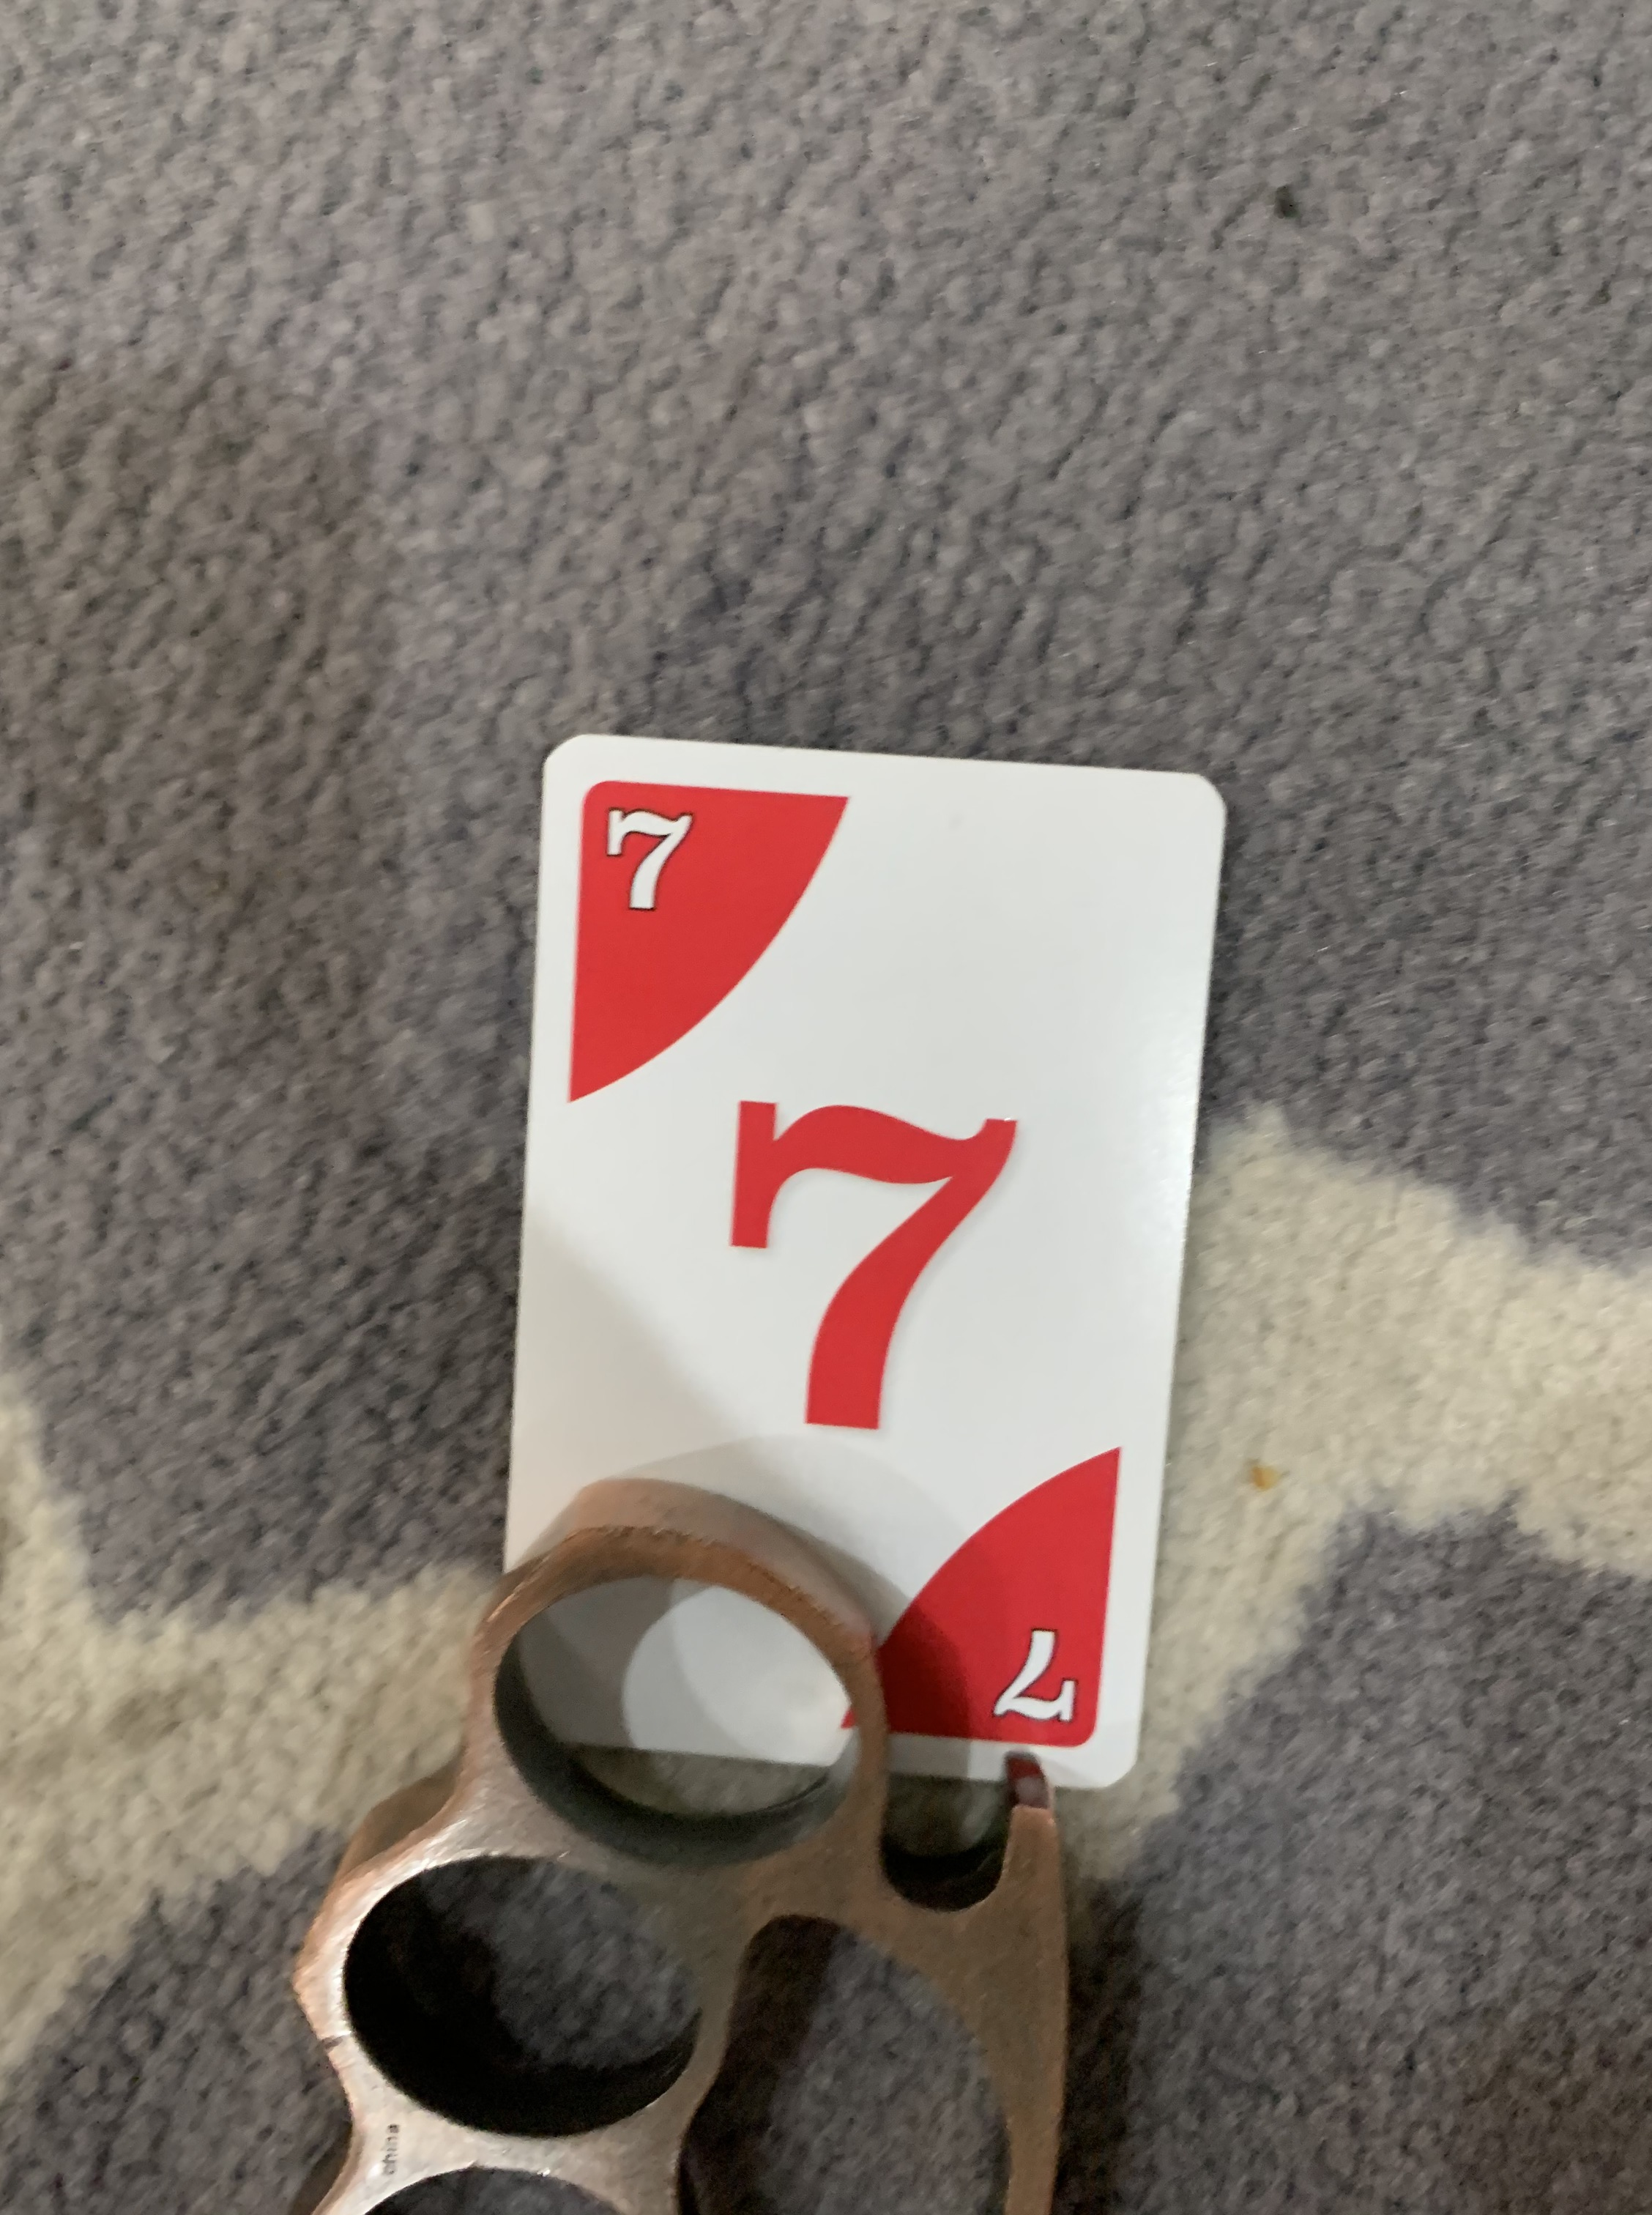seven: (451, 693, 1268, 1824)
